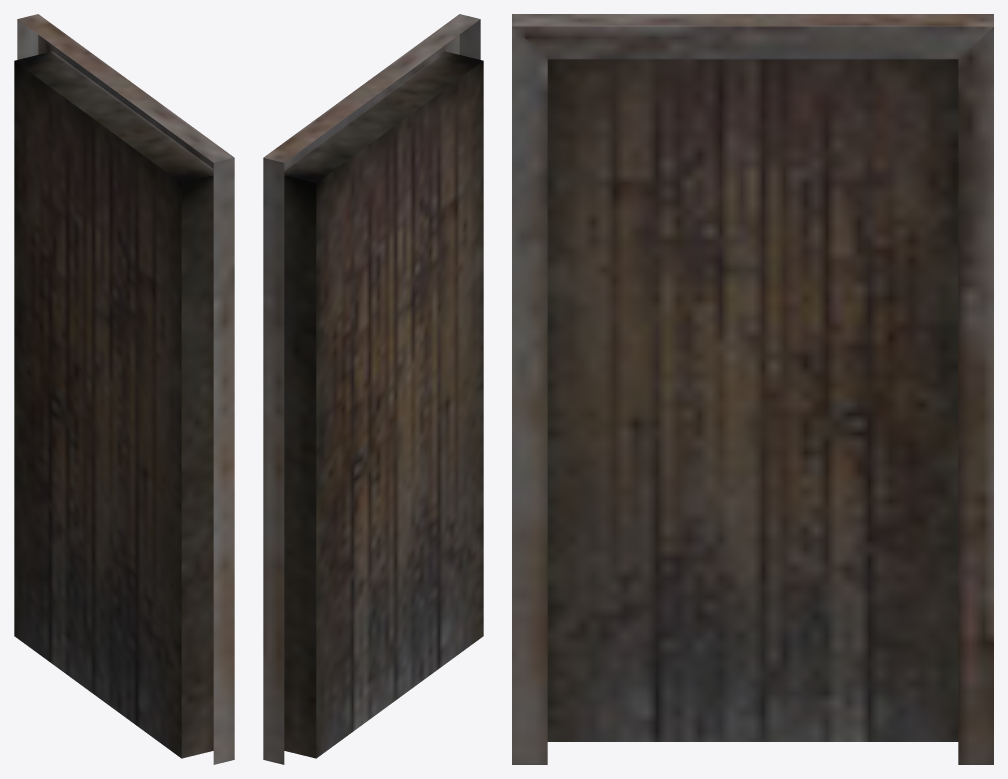
The model's file is BalconyDoor.FBX.
3 views of the same model, side by side, from view 1: azimuth 30°, elevation 25°; view 2: azimuth 150°, elevation 25°; view 3: azimuth 270°, elevation 25° (orthographic). The views are drawn at different scales.
Parts seen in each view (by area): view 1: BalconyDoor; view 2: BalconyDoor; view 3: BalconyDoor.
Part boxes in pixels (<box>): BalconyDoor: <box>14,14,234,764</box>; BalconyDoor: <box>263,14,483,764</box>; BalconyDoor: <box>512,14,993,764</box>.
Size of the model in its own units: 18.28 by 272 by 161.
